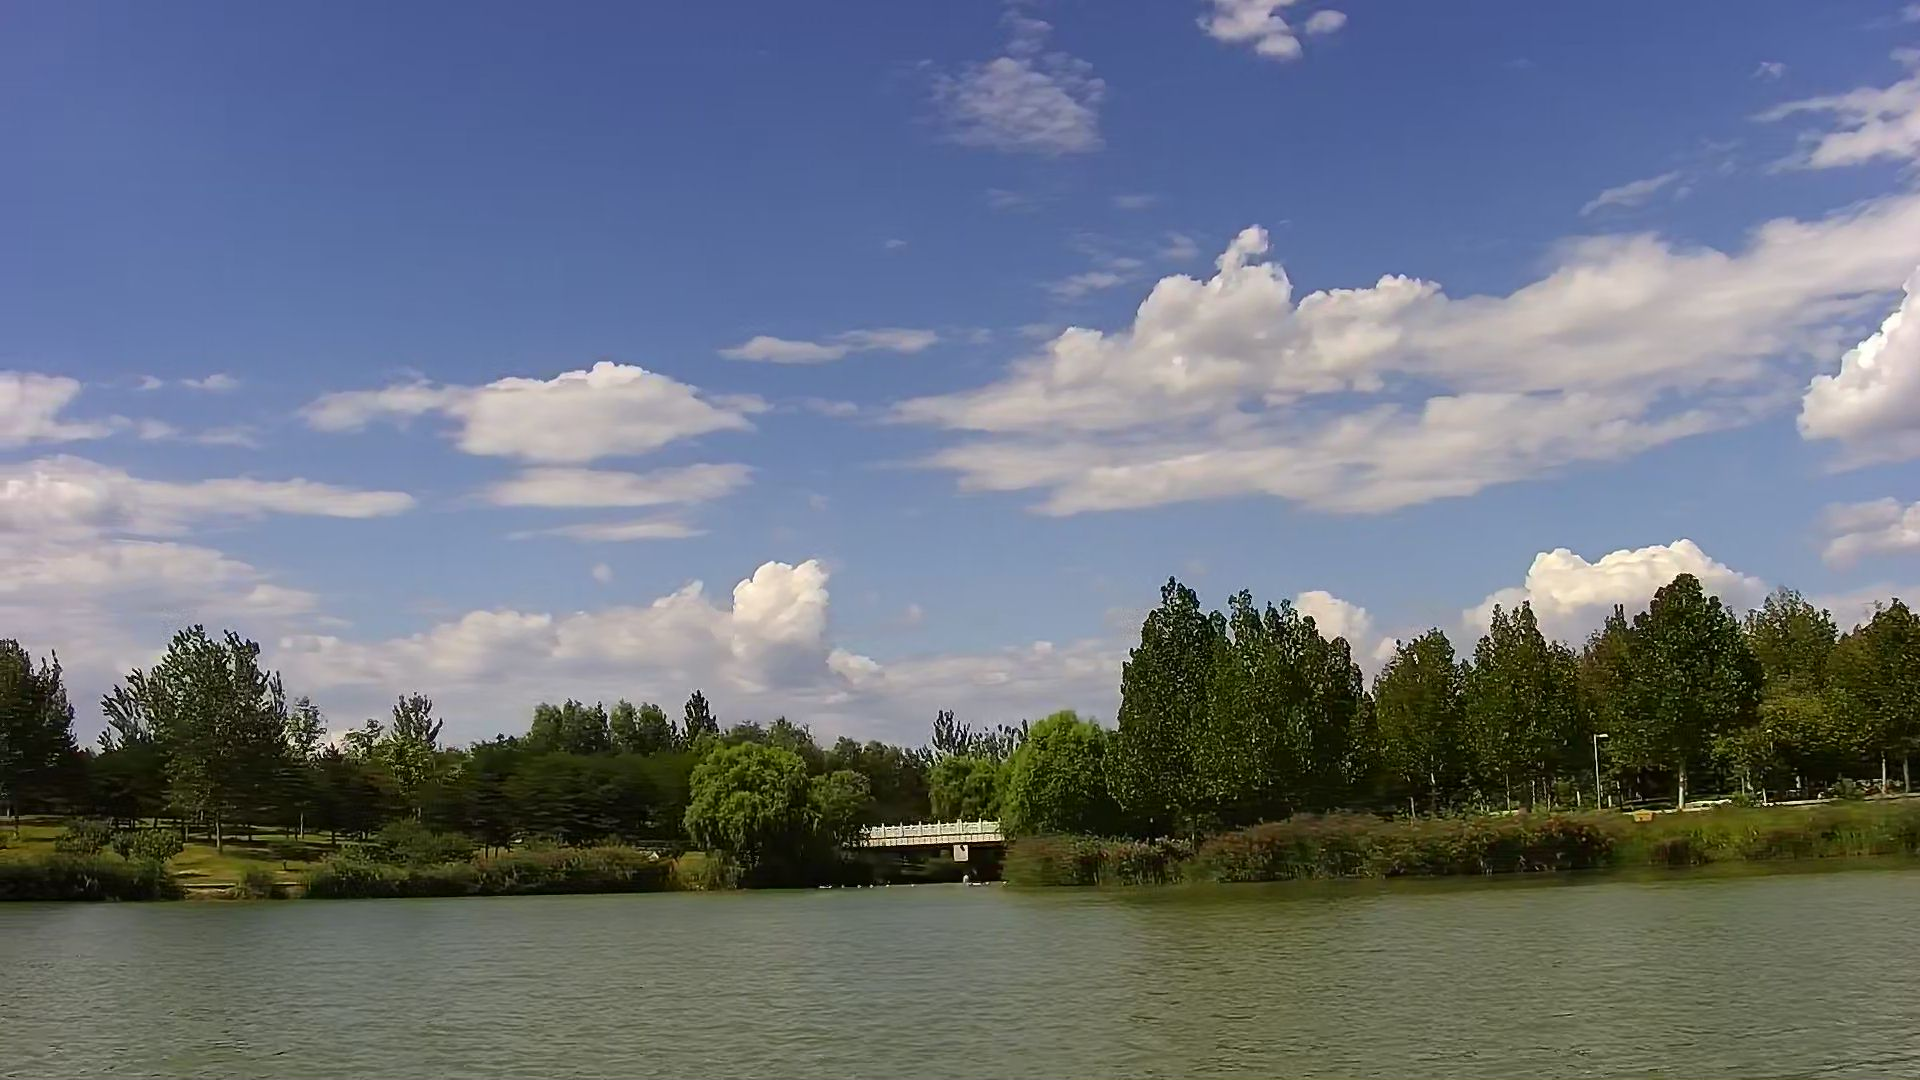bridge: (858, 819, 1001, 891)
